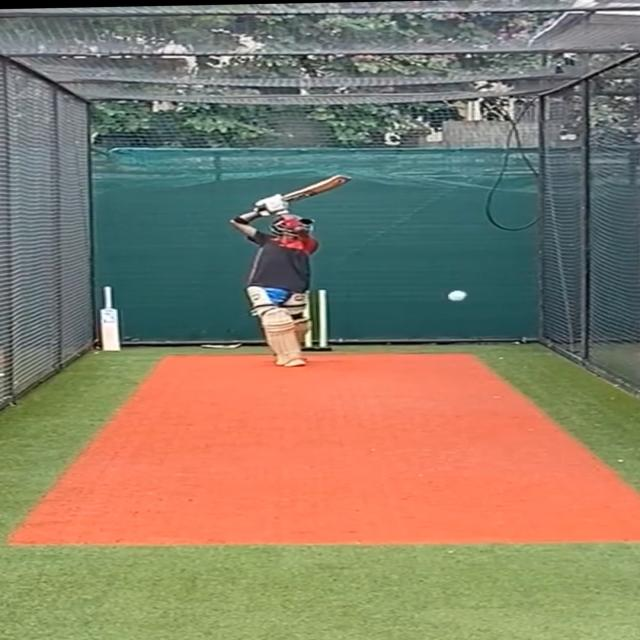ball: (443, 286, 470, 303)
stump: (298, 286, 332, 354)
